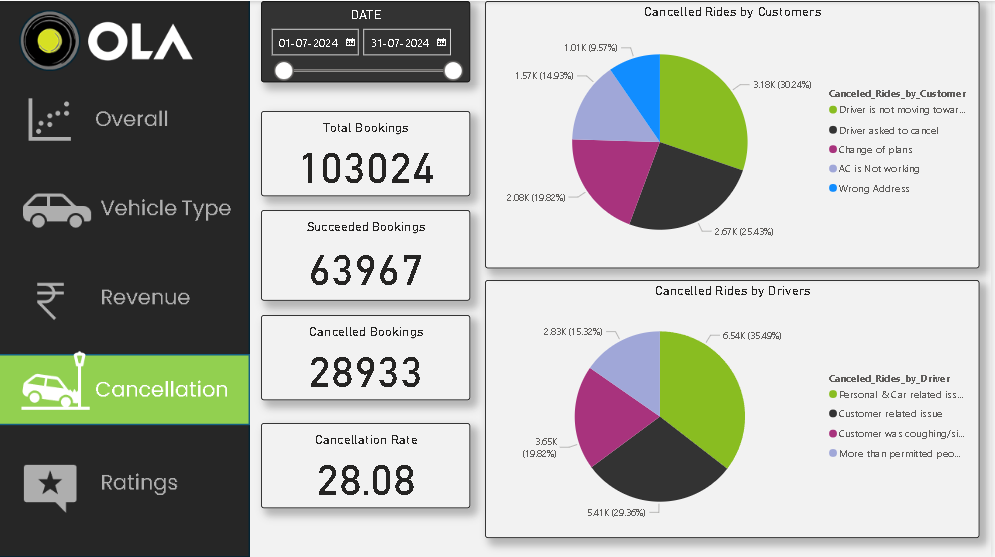

The dashboard page shown, as its layout file describes it:
{"tool":"powerbi","page":{"name":"Cancellation","canvas":[1280,720],"ordinal":3},"visuals":[{"type":"actionButton","box":[0,581.1,324.6,87.9],"z":0},{"type":"actionButton","box":[0,225.4,324.6,87.9],"z":1000},{"type":"actionButton","box":[0,344.4,324.6,87.9],"z":2000},{"type":"actionButton","box":[0,107.7,324.6,87.9],"z":3000},{"type":"pieChart","title":"Cancelled Rides by Customers","fields":{"Y":["CountNonNull(July.Canceled_Rides_by_Customer)"],"Category":["July.Canceled_Rides_by_Customer"]},"box":[626.7,0,638.3,345],"z":4000},{"type":"pieChart","title":"Cancelled Rides by Drivers","fields":{"Category":["July.Canceled_Rides_by_Driver"],"Y":["CountNonNull(July.Canceled_Rides_by_Driver)"]},"box":[626.7,360,638.3,333.3],"z":5000},{"type":"slicer","title":"DATE","fields":{"Values":["July.Date"]},"box":[338.3,0,270,105],"z":6000},{"type":"card","title":"Total Bookings","fields":{"Values":["CountNonNull(July.Booking_ID)"]},"box":[338.3,141.7,270,110],"z":7000},{"type":"card","title":"Succeeded Bookings","fields":{"Values":["CountNonNull(July.Booking_ID)"]},"box":[338.3,270,270,116.7],"z":8000},{"type":"card","title":"Cancelled Bookings","fields":{"Values":["CountNonNull(July.Booking_ID)"]},"box":[338.3,405,270,110],"z":9000},{"type":"card","title":"Cancellation Rate","fields":{"Values":["July.CanceledPercentage"]},"box":[338.3,545,270,110],"z":10000}]}

Visuals, with their boxes on the page's 1280x720 design canvas (x1, y1, x2, y2). These are canvas units, not pixel positions in the 995x557 screenshot, which may show the page scaled, cropped or inside an application window:
actionButton: [left=0, top=581, right=325, bottom=669]
actionButton: [left=0, top=225, right=325, bottom=313]
actionButton: [left=0, top=344, right=325, bottom=432]
actionButton: [left=0, top=108, right=325, bottom=196]
"Cancelled Rides by Customers" pieChart: [left=627, top=0, right=1265, bottom=345]
"Cancelled Rides by Drivers" pieChart: [left=627, top=360, right=1265, bottom=693]
"DATE" slicer: [left=338, top=0, right=608, bottom=105]
"Total Bookings" card: [left=338, top=142, right=608, bottom=252]
"Succeeded Bookings" card: [left=338, top=270, right=608, bottom=387]
"Cancelled Bookings" card: [left=338, top=405, right=608, bottom=515]
"Cancellation Rate" card: [left=338, top=545, right=608, bottom=655]
